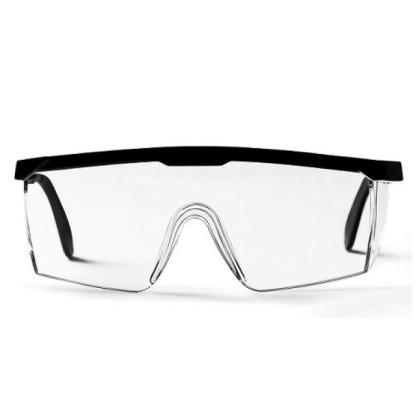oculos: (1, 141, 414, 298)
